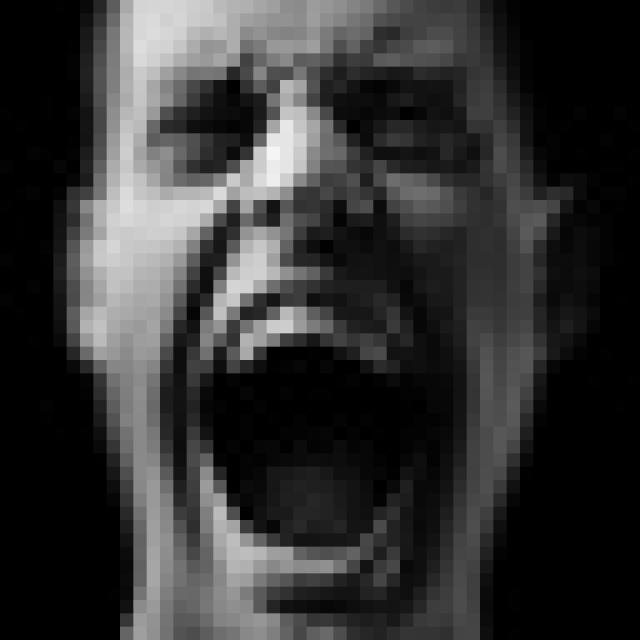angry: (125, 52, 489, 606)
